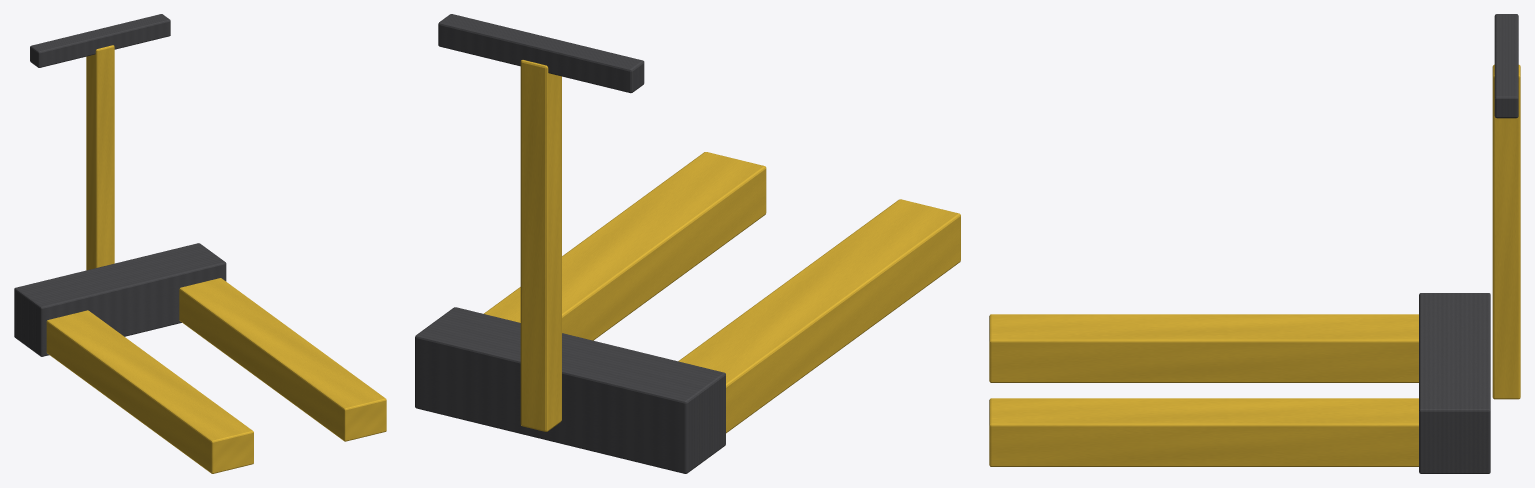
The model's file is pallet_jack.glb.
3 renders of one model, left to right at view 1: azimuth 30°, elevation 25°; view 2: azimuth 150°, elevation 25°; view 3: azimuth 270°, elevation 25°, orthographic. The views are drawn at different scales.
Visible parts, largest first — view 1: fork, fork.001, crossbar.006, handle_column, handle.002; view 2: crossbar.006, fork, fork.001, handle_column, handle.002; view 3: fork, fork.001, crossbar.006, handle_column, handle.002.
Part boxes in pixels (bbox=[...]): fork: bbox=[46, 310, 253, 473]; fork.001: bbox=[179, 278, 386, 441]; crossbar.006: bbox=[14, 243, 226, 356]; handle_column: bbox=[86, 45, 114, 270]; handle.002: bbox=[30, 14, 170, 67]; crossbar.006: bbox=[415, 307, 725, 473]; fork: bbox=[678, 199, 960, 433]; fork.001: bbox=[484, 152, 766, 340]; handle_column: bbox=[520, 60, 561, 431]; handle.002: bbox=[438, 14, 644, 93]; fork: bbox=[989, 314, 1418, 382]; fork.001: bbox=[989, 398, 1418, 466]; crossbar.006: bbox=[1419, 293, 1490, 473]; handle_column: bbox=[1492, 64, 1520, 399]; handle.002: bbox=[1494, 14, 1518, 118].
Bounding box in the file's own units: 0.7 × 1 × 1.34.
2 materials, 2 textured.
